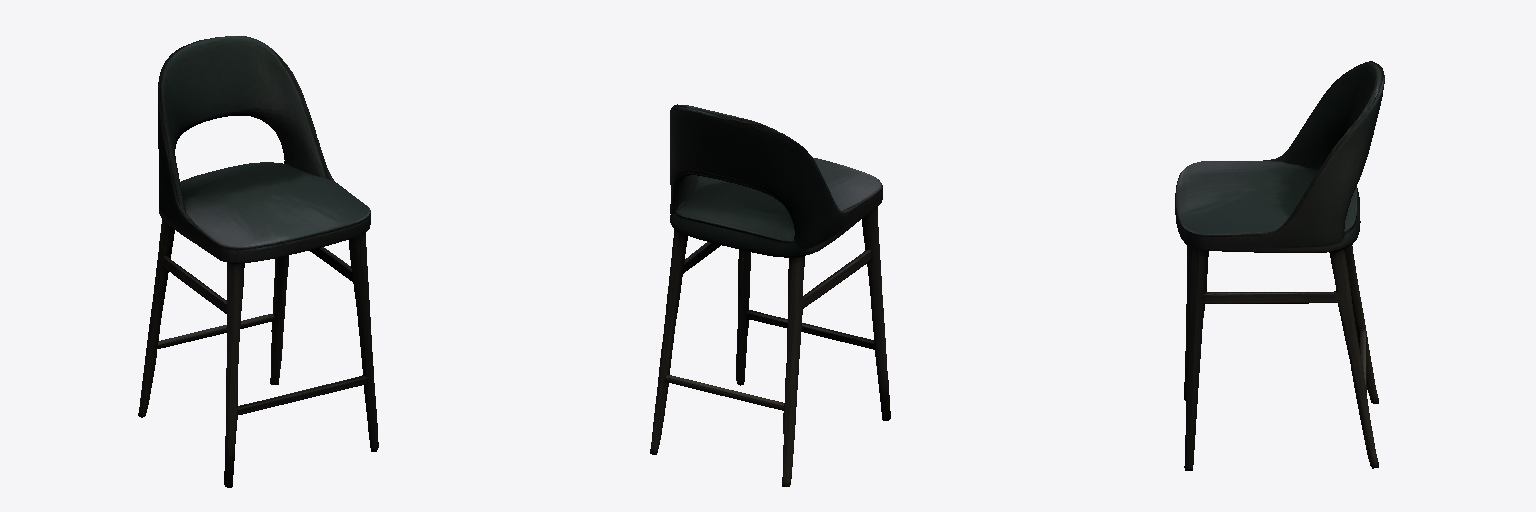
3 views of the same model, side by side, from view 1: azimuth 30°, elevation 25°; view 2: azimuth 150°, elevation 25°; view 3: azimuth 270°, elevation 25° (orthographic).
Parts seen in each view (by area): view 1: geometry_0; view 2: geometry_0; view 3: geometry_0.
Part boxes in pixels (bbox=[...]): geometry_0: bbox=[138, 36, 378, 487]; geometry_0: bbox=[650, 104, 890, 486]; geometry_0: bbox=[1175, 61, 1384, 470].
Bounding box in the file's own units: 0.4481 × 1 × 0.5298.
1 materials, 1 textured.